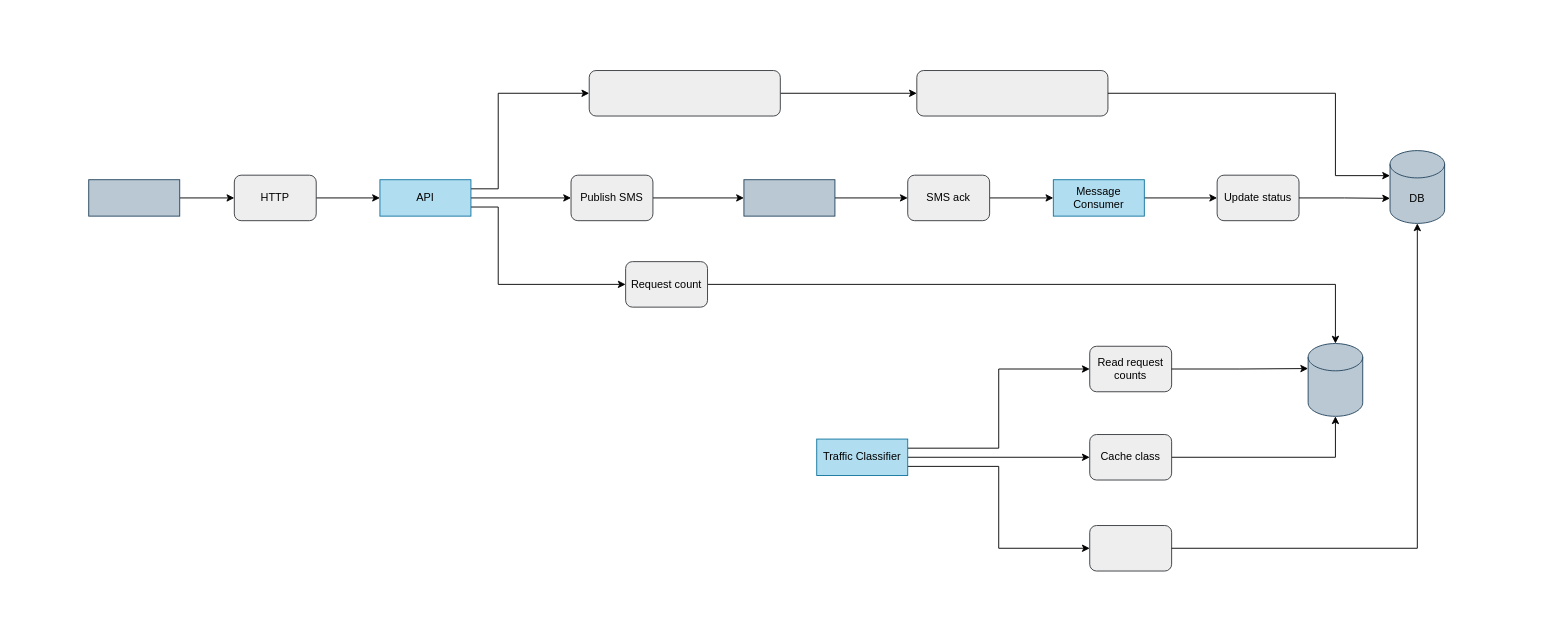
Some shapes in this 1551 by 622 pixel diagram are drawn without their labels. Here are the shapes that lost their labels. From the top down, the centre of each, then its label:
At (x=684, y=93): "Checking and consuming balance".
At (x=1012, y=93): "Store SMS as Pending".
At (x=134, y=197): "Client".
At (x=789, y=197): "RabbitMQ".
At (x=1335, y=379): "Redis".
At (x=1130, y=548): "Update class".
